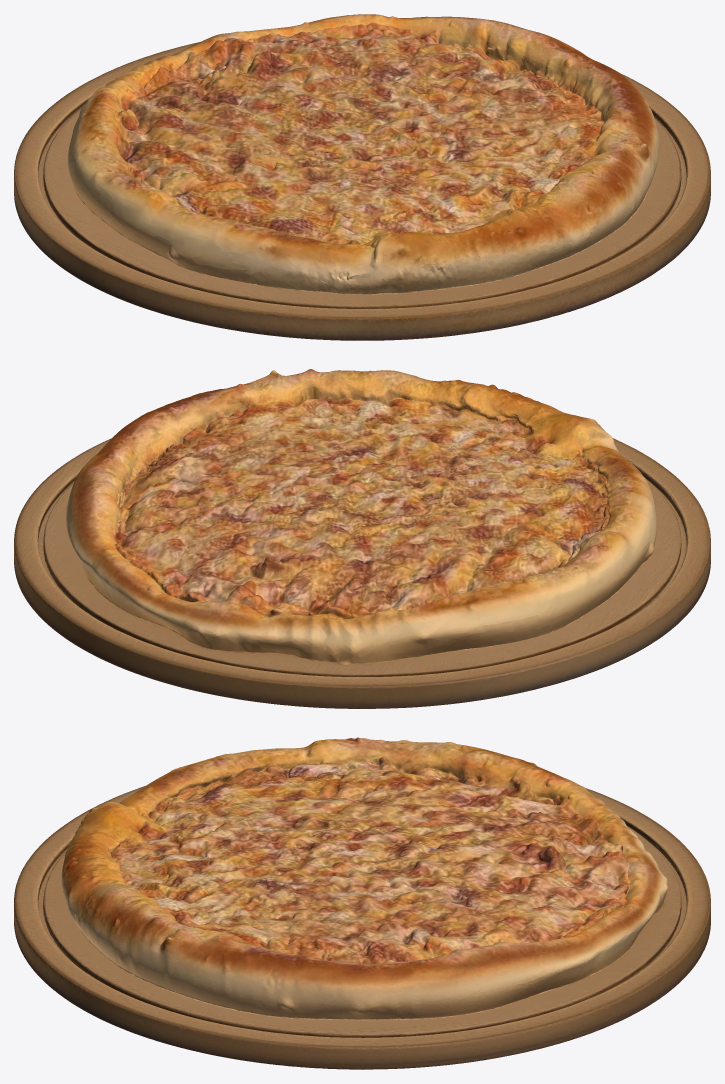
File: margherita.glb
3 renders of one model, top to bottom at view 1: azimuth 30°, elevation 25°; view 2: azimuth 150°, elevation 25°; view 3: azimuth 270°, elevation 25°, orthographic.
Visible parts, largest first — view 1: mesh_node; view 2: mesh_node; view 3: mesh_node.
Boxes of the visible parts, x1,y1,x2,y2 form: mesh_node: [14, 14, 710, 340]; mesh_node: [14, 369, 710, 708]; mesh_node: [14, 737, 710, 1069].
Bounding box in the file's own units: 0.32 × 0.0405 × 0.32.
1 material, 1 textured.
